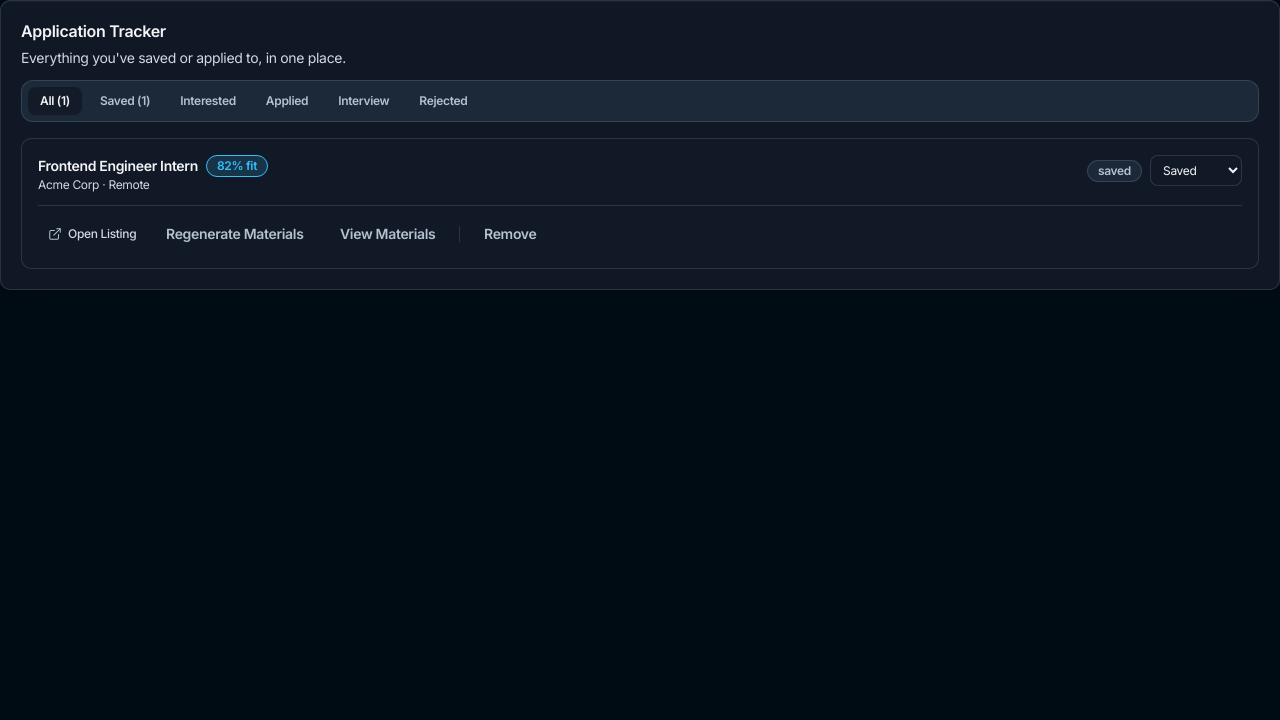
it: JobAgentTrackerPage › regenerating materials never silently overwrites existing content › confirming the dialog proceeds with regeneration
Expected: the text "Frontend Engineer Intern" is shown, [38,156,198,176]
Click the button "Regenerate Materials".
click(235, 234)  # box [150,216,320,252]
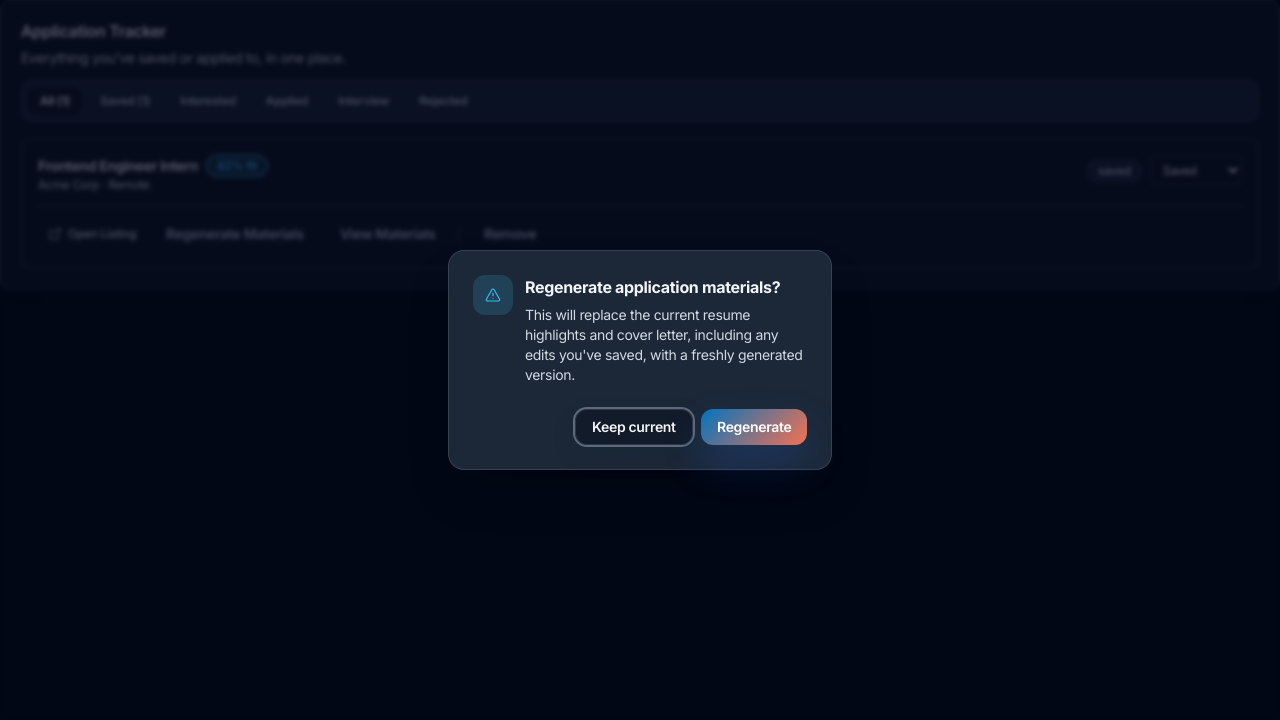
Expected: the heading "Regenerate application materials?" is shown, [525,275,807,299]
Click the button "Regenerate".
click(754, 427)  # box [700,409,807,445]
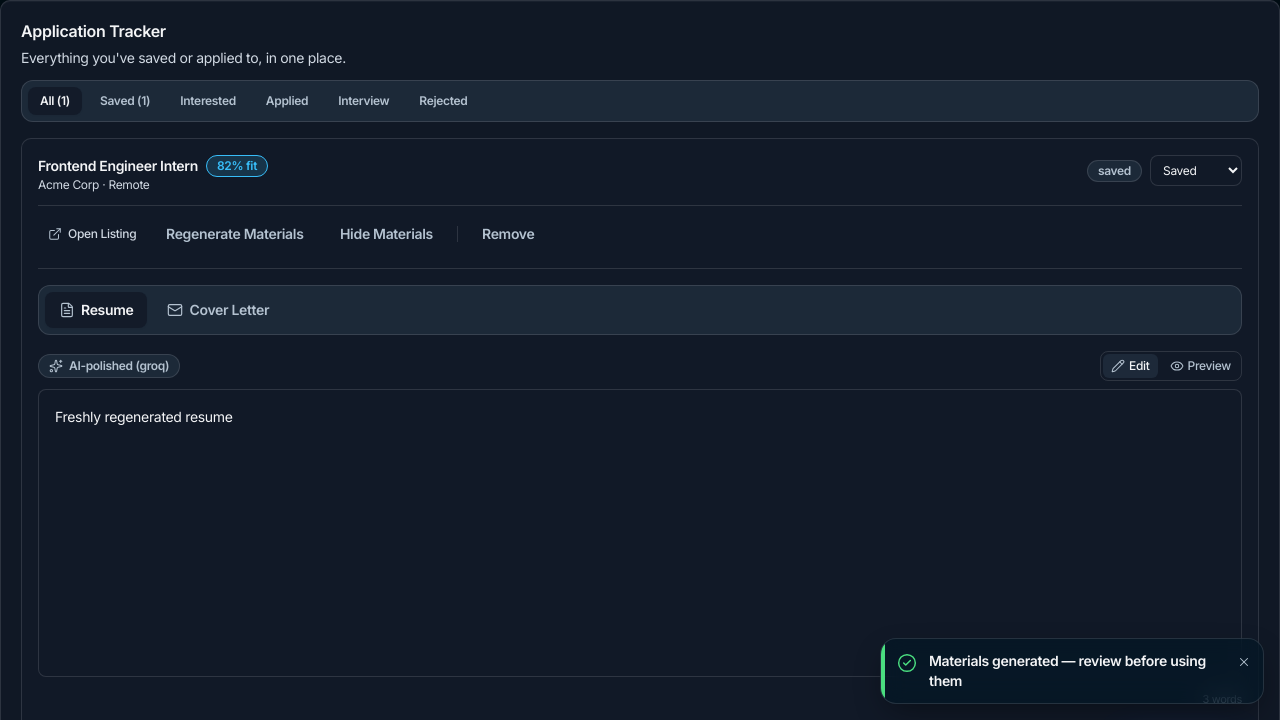
Expected: the text "Materials generated — review before using them" is shown, [929,651,1227,691]
